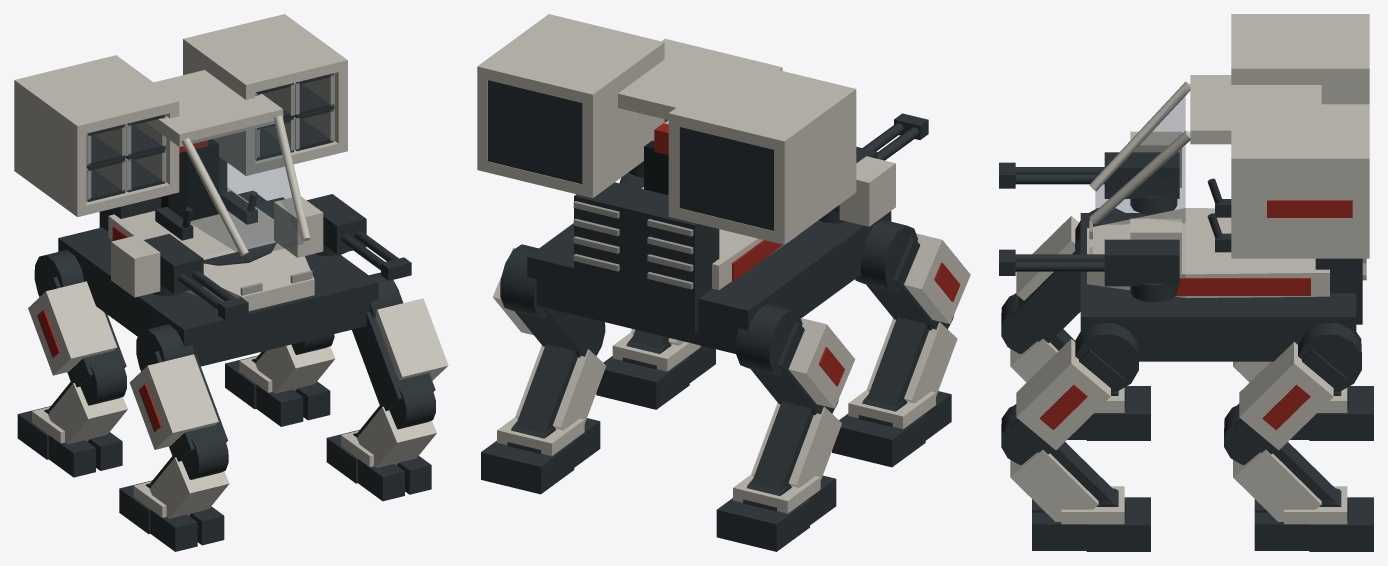
3 renders of one model, left to right at view 1: azimuth 30°, elevation 25°; view 2: azimuth 150°, elevation 25°; view 3: azimuth 270°, elevation 25°, orthographic. The views are drawn at different scales.
Parts seen in each view (by area): view 1: mech-torso-painted, mech-silo-left-painted, mech-silo-right-painted, mech-torso-glazing, mech-hip-1-painted, mech-hip-0-painted, mech-hip-3-painted, mech-mg-pitch-left-painted, mech-mg-pitch-right-painted, mech-knee-1-painted, mech-knee-0-painted, mech-knee-3-painted (+6 smaller); view 2: mech-torso-painted, mech-silo-left-painted, mech-silo-right-painted, mech-hip-0-painted, mech-hip-1-painted, mech-ankle-0-painted, mech-ankle-2-painted, mech-ankle-1-painted, mech-knee-2-painted, mech-ankle-3-painted, mech-knee-0-painted, mech-knee-1-painted (+3 smaller); view 3: mech-torso-painted, mech-silo-right-painted, mech-silo-left-painted, mech-hip-3-painted, mech-hip-2-painted, mech-mg-pitch-right-painted, mech-torso-glazing, mech-knee-3-painted, mech-knee-2-painted, mech-ankle-2-painted, mech-ankle-3-painted, mech-mg-pitch-left-painted (+8 smaller).
Part boxes in pixels (left/top/right/bottom): mech-torso-painted: left=58, top=70, right=378, bottom=366; mech-silo-left-painted: left=14, top=55, right=179, bottom=217; mech-silo-right-painted: left=183, top=14, right=347, bottom=175; mech-torso-glazing: left=188, top=120, right=302, bottom=257; mech-hip-1-painted: left=129, top=324, right=227, bottom=461; mech-hip-0-painted: left=28, top=250, right=126, bottom=387; mech-hip-3-painted: left=352, top=272, right=448, bottom=410; mech-mg-pitch-left-painted: left=111, top=234, right=248, bottom=320; mech-mg-pitch-right-painted: left=274, top=194, right=411, bottom=280; mech-knee-1-painted: left=149, top=431, right=229, bottom=518; mech-knee-0-painted: left=48, top=357, right=127, bottom=444; mech-knee-3-painted: left=357, top=381, right=436, bottom=467; mech-torso-painted: left=527, top=38, right=891, bottom=353; mech-silo-left-painted: left=668, top=60, right=856, bottom=244; mech-silo-right-painted: left=477, top=14, right=664, bottom=198; mech-hip-0-painted: left=736, top=304, right=855, bottom=413; mech-hip-1-painted: left=855, top=219, right=970, bottom=329; mech-ankle-0-painted: left=716, top=474, right=836, bottom=551; mech-ankle-2-painted: left=481, top=417, right=600, bottom=494; mech-ankle-1-painted: left=832, top=390, right=951, bottom=467; mech-knee-2-painted: left=515, top=321, right=605, bottom=433; mech-ankle-3-painted: left=596, top=332, right=715, bottom=409; mech-knee-0-painted: left=751, top=399, right=841, bottom=490; mech-knee-1-painted: left=866, top=316, right=957, bottom=406; mech-torso-painted: left=1080, top=75, right=1366, bottom=361; mech-silo-right-painted: left=1231, top=104, right=1369, bottom=258; mech-silo-left-painted: left=1231, top=14, right=1369, bottom=104; mech-hip-3-painted: left=1010, top=323, right=1138, bottom=454; mech-hip-2-painted: left=1233, top=323, right=1361, bottom=454; mech-mg-pitch-right-painted: left=999, top=218, right=1181, bottom=286; mech-torso-glazing: left=1095, top=90, right=1185, bottom=224; mech-knee-3-painted: left=1001, top=404, right=1113, bottom=521; mech-knee-2-painted: left=1224, top=404, right=1336, bottom=521; mech-ankle-2-painted: left=1254, top=486, right=1373, bottom=551; mech-ankle-3-painted: left=1032, top=486, right=1150, bottom=551; mech-mg-pitch-left-painted: left=999, top=131, right=1181, bottom=198.
Bounding box in the file's own units: 13.63 × 16.84 × 14.45.
